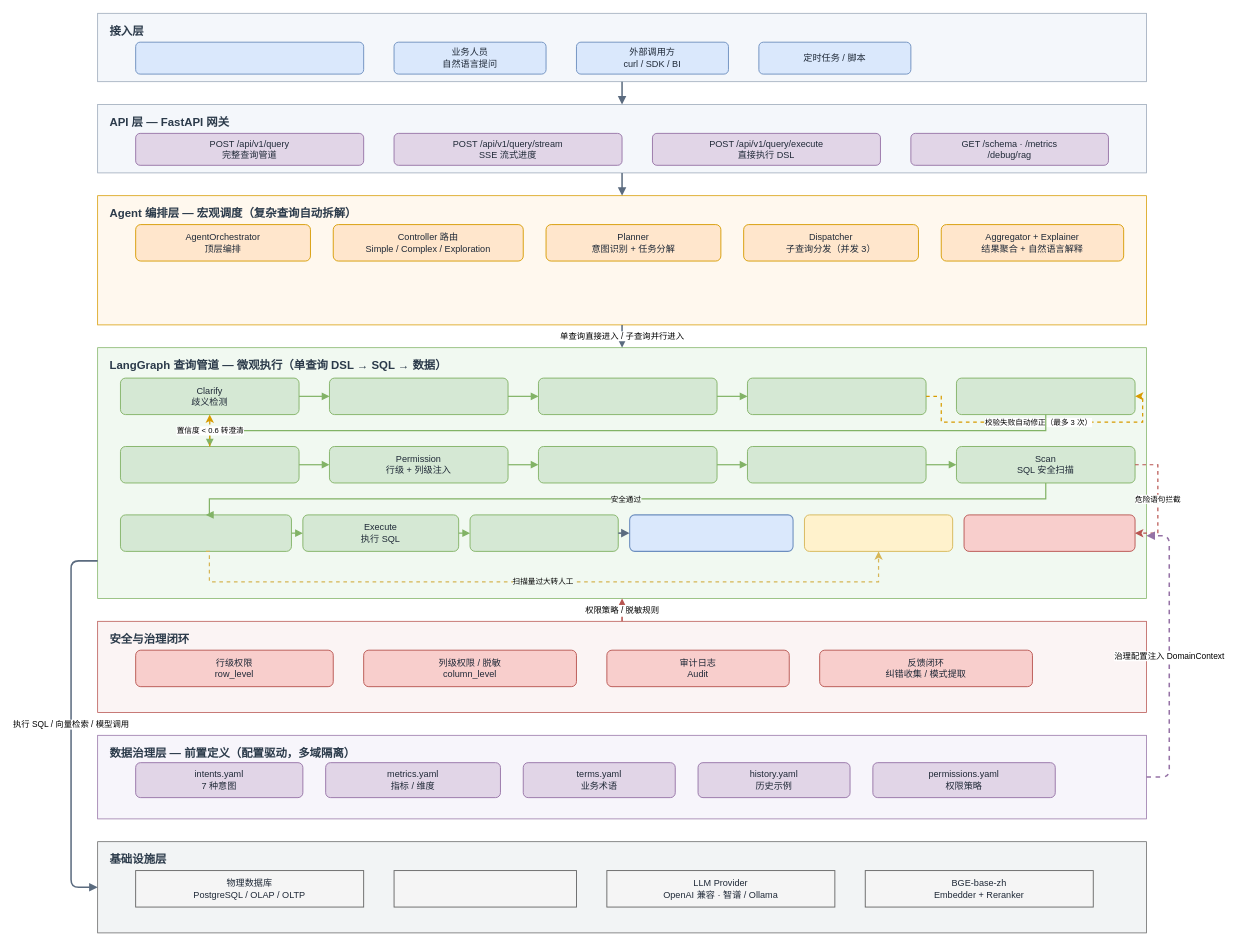
Some shapes in this 1237 by 946 pixel diagram are drawn without their labels. The shapes that lost their labels are listed below. From the top down, each one's centre as x and y in pixels, then its label:
point (249, 57): Web 前端 React + Vite + AntD + ECharts
point (418, 396): Decompose 查询改写
point (627, 396): RAG 语义检索 BGE + Milvus
point (836, 396): LLM 生成 DSL 结构化 JSON 输出
point (1045, 396): Validate DSL Schema 校验
point (209, 464): Confidence 置信度评估
point (627, 464): Resolve 指标 → SQL 表达式
point (836, 464): Build SQL 构建 / 精确 JOIN
point (206, 532): Sandbox EXPLAIN + LIMIT 预检
point (543, 532): Verify 结果验证
point (711, 533): 返回结果 → Aggregator / Explainer
point (878, 532): HumanReview 人工审核（扫描量过大）
point (1049, 532): Reject 拒绝执行
point (485, 888): Milvus Lite 向量库
